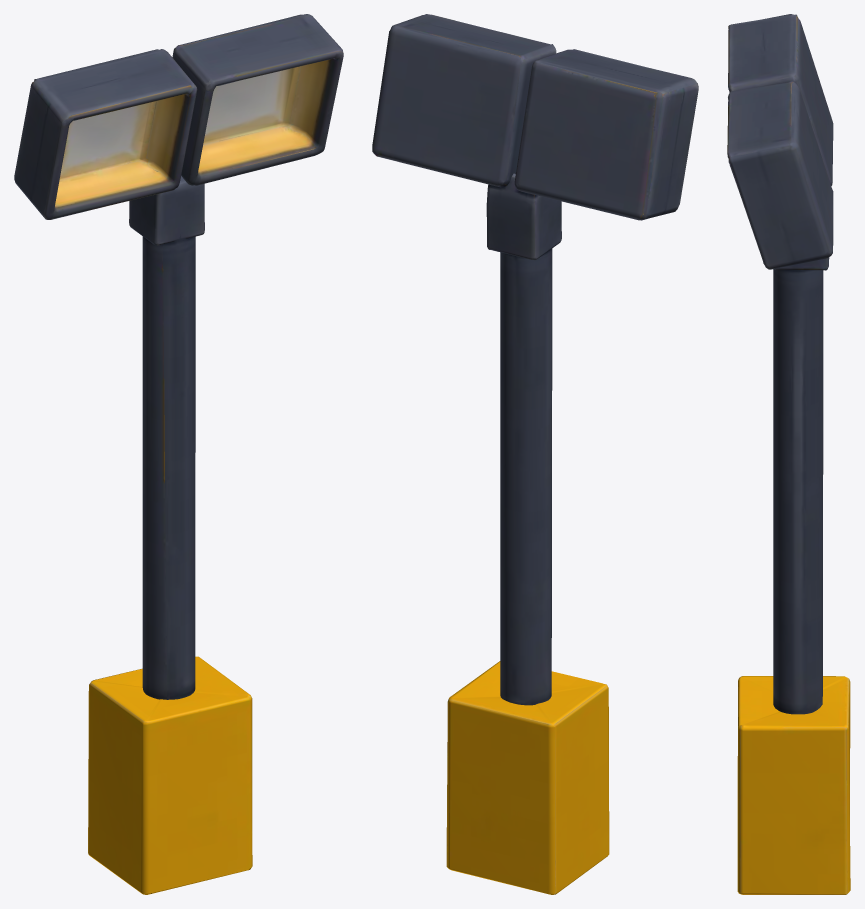
File: floodlight.glb
3 views of the same model, side by side, from view 1: azimuth 30°, elevation 25°; view 2: azimuth 150°, elevation 25°; view 3: azimuth 270°, elevation 25° (orthographic). The views are drawn at different scales.
Visible parts, largest first — view 1: meshy-floodlight; view 2: meshy-floodlight; view 3: meshy-floodlight.
Boxes of the visible parts, bbox=[...] form: meshy-floodlight: bbox=[14, 14, 343, 894]; meshy-floodlight: bbox=[372, 14, 698, 894]; meshy-floodlight: bbox=[727, 14, 850, 894].
Bounding box in the file's own units: 0.8 × 2.2 × 0.3109.
Materials: 1 (1 with a texture image).
